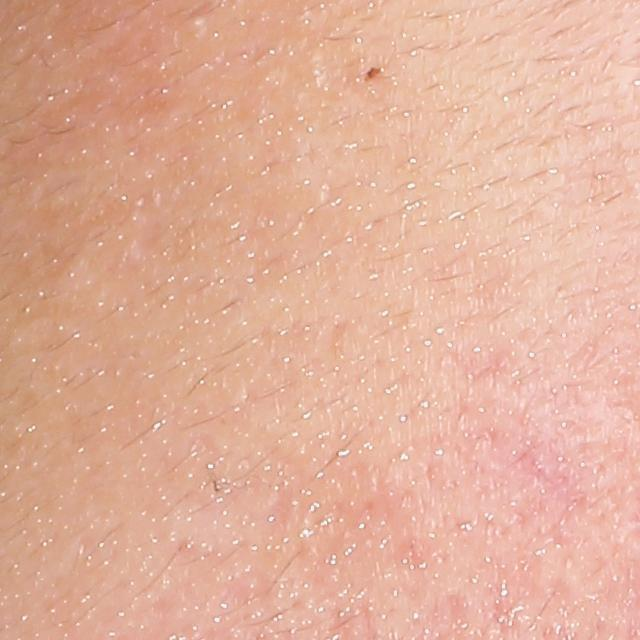comedo: (182, 11, 215, 40)
nevus: (363, 65, 386, 82)
